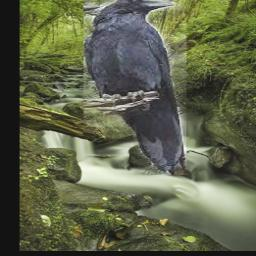Crow: (84, 0, 187, 175)
